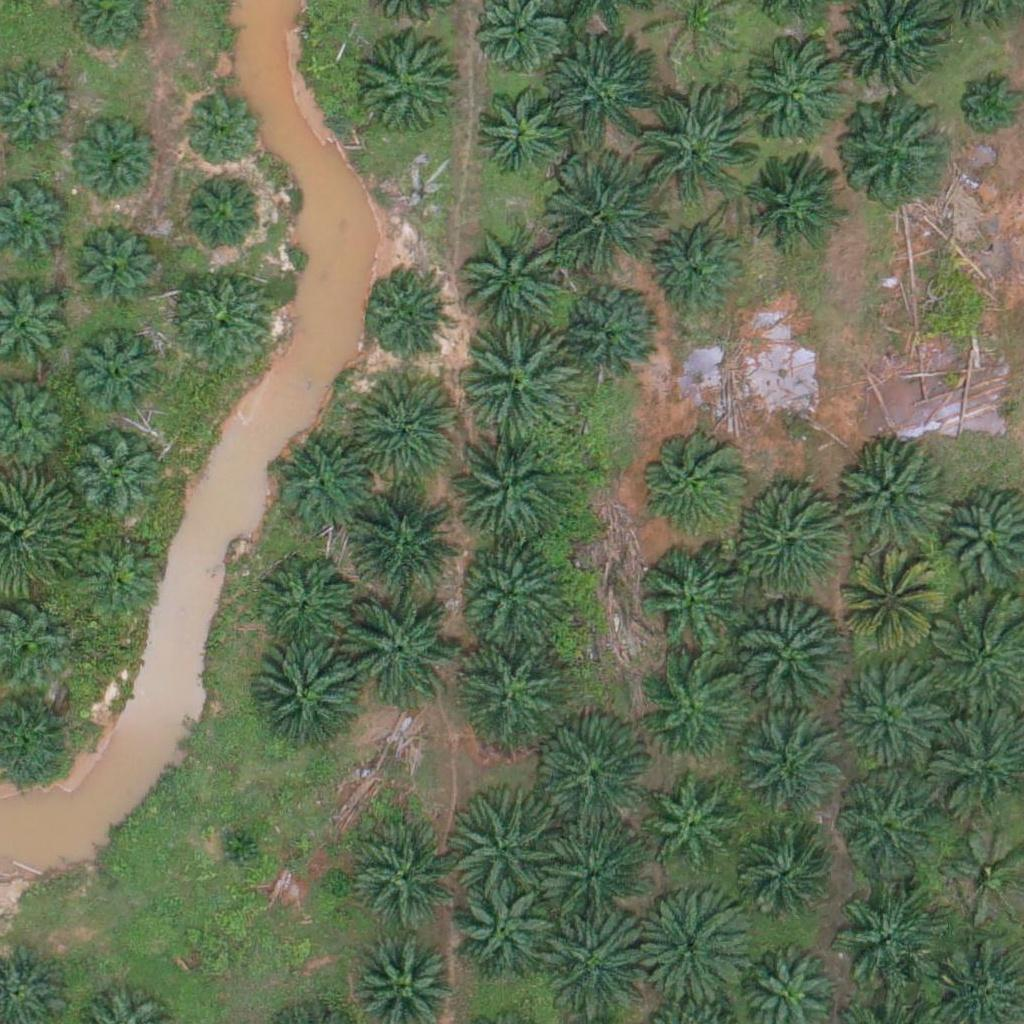Kelapa_Sawit: (633, 889, 746, 1003), (542, 905, 655, 1019), (459, 532, 572, 646), (547, 160, 660, 274), (450, 437, 563, 551), (348, 373, 461, 487), (734, 605, 847, 718), (636, 547, 749, 660), (247, 644, 360, 757), (548, 34, 661, 147), (639, 652, 751, 766), (742, 35, 854, 149), (637, 424, 749, 538), (347, 481, 459, 595), (831, 878, 943, 991), (540, 727, 652, 840), (451, 635, 563, 748), (451, 783, 563, 896), (339, 592, 451, 705), (833, 443, 945, 556), (723, 487, 835, 600), (836, 101, 948, 214), (640, 90, 752, 203), (461, 214, 573, 327), (465, 328, 577, 441), (832, 664, 932, 765), (834, 776, 934, 877), (740, 721, 840, 822), (641, 776, 741, 877), (453, 881, 553, 982), (254, 554, 354, 655), (557, 281, 657, 382), (471, 77, 571, 178), (360, 33, 460, 134), (173, 266, 273, 367), (65, 327, 165, 428), (273, 434, 373, 535), (838, 558, 938, 658), (732, 835, 832, 935), (543, 824, 643, 924), (354, 832, 454, 932), (743, 154, 843, 254), (646, 227, 746, 327), (76, 531, 164, 619), (361, 267, 448, 355), (73, 123, 160, 211), (180, 169, 267, 257), (74, 439, 161, 527), (69, 218, 156, 306), (183, 96, 258, 172), (212, 819, 262, 870)
